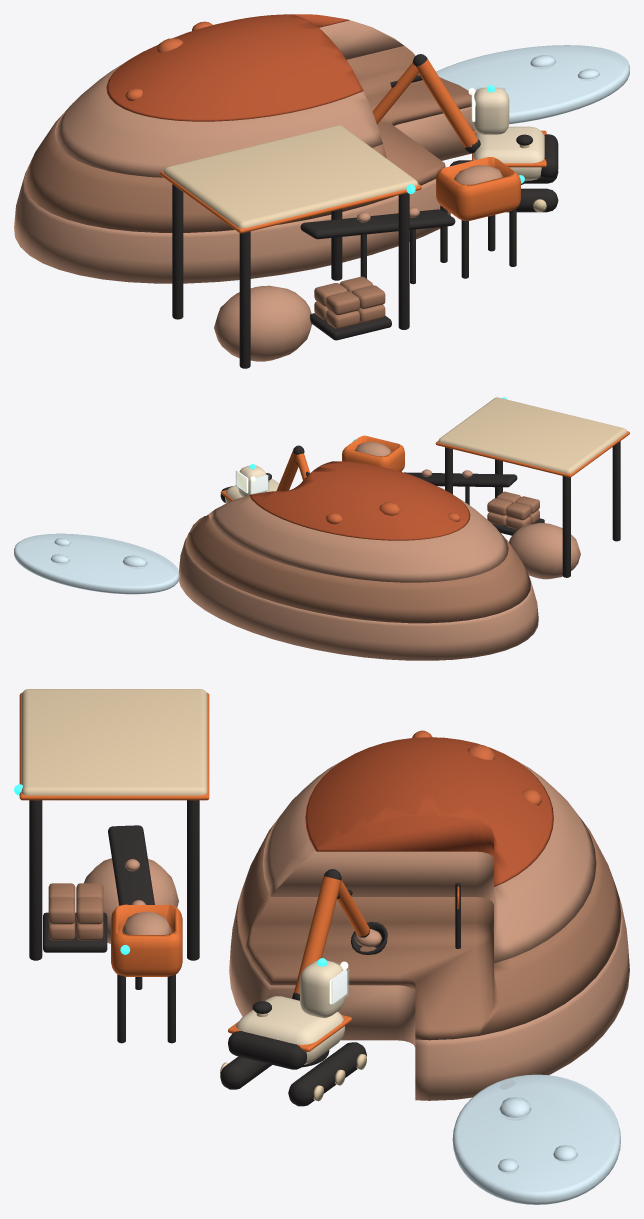
File: claypit.glb
3 renders of one model, top to bottom at view 1: azimuth 30°, elevation 25°; view 2: azimuth 150°, elevation 25°; view 3: azimuth 270°, elevation 25°, orthographic. The views are drawn at different scales.
Visible parts, largest first — view 1: Sphere, Sphere.003, Cube.016, Cube.013, Cube.001, Cylinder.001, Cube, Cube.003, Sphere.004; view 2: Sphere, Cube.016, Sphere.003, Cube.013, Cylinder.001, Cube.001, Cube, Cube.003, Cube.009, Sphere.004, Cube.007; view 3: Sphere, Cube.016, Sphere.003, Cube.013, Cylinder.001, Cube.001, Cube, Cube.003.
Part boxes in pixels (x1=…): Sphere: x1=14, y1=20, x2=502, y2=361; Sphere.003: x1=106, y1=14, x2=363, y2=121; Cube.016: x1=24, y1=46, x2=471, y2=328; Cube.013: x1=163, y1=125, x2=546, y2=228; Cube.001: x1=172, y1=54, x2=558, y2=368; Cylinder.001: x1=436, y1=45, x2=629, y2=124; Cube: x1=160, y1=59, x2=546, y2=233; Cube.003: x1=472, y1=87, x2=544, y2=180; Sphere.004: x1=125, y1=21, x2=212, y2=100; Sphere: x1=179, y1=442, x2=580, y2=660; Cube.016: x1=186, y1=491, x2=539, y2=623; Sphere.003: x1=249, y1=461, x2=470, y2=540; Cube.013: x1=268, y1=397, x2=627, y2=482; Cylinder.001: x1=14, y1=533, x2=179, y2=594; Cube.001: x1=220, y1=441, x2=620, y2=577; Cube: x1=220, y1=431, x2=629, y2=500; Cube.003: x1=225, y1=465, x2=279, y2=503; Cube.009: x1=235, y1=470, x2=269, y2=494; Sphere.004: x1=326, y1=502, x2=460, y2=524; Cube.007: x1=237, y1=471, x2=267, y2=493; Sphere: x1=84, y1=757, x2=629, y2=1100; Cube.016: x1=48, y1=819, x2=621, y2=1040; Sphere.003: x1=305, y1=737, x2=553, y2=886; Cube.013: x1=21, y1=689, x2=366, y2=1101; Cylinder.001: x1=452, y1=1074, x2=620, y2=1204; Cube.001: x1=29, y1=800, x2=460, y2=1106; Cube: x1=19, y1=693, x2=459, y2=1051; Cube.003: x1=236, y1=960, x2=344, y2=1064.
Bounding box in the file's own units: 2.42 × 0.72 × 1.72.
